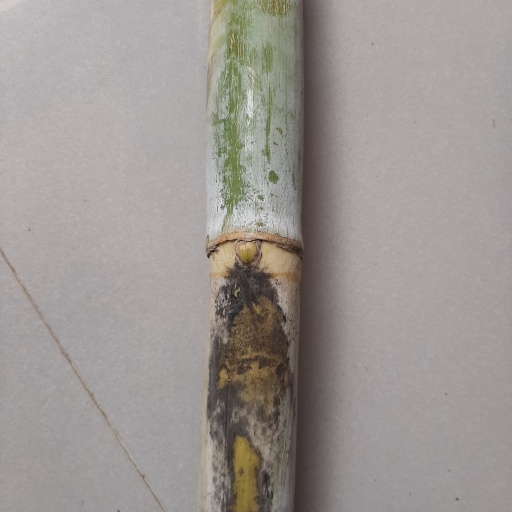Bud: (233, 240, 263, 271)
